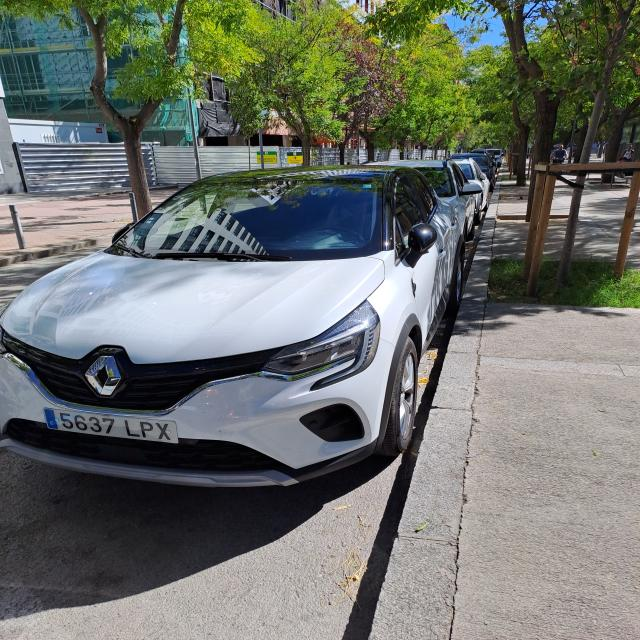license_plate-34Td: (44, 407, 178, 443)
